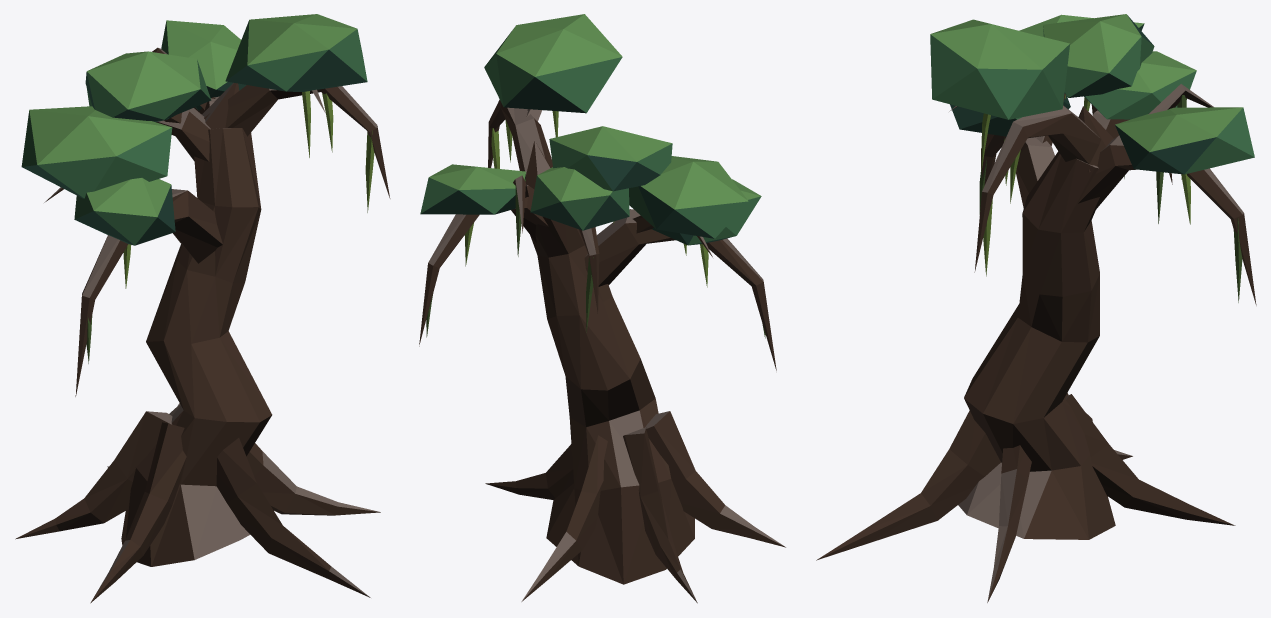
The model's file is SM_Tree_Gnarled_A.fbx.
3 views of the same model, side by side, from view 1: azimuth 30°, elevation 25°; view 2: azimuth 150°, elevation 25°; view 3: azimuth 270°, elevation 25° (orthographic). The views are drawn at different scales.
Visible parts, largest first — view 1: SM_Tree_Gnarled_A; view 2: SM_Tree_Gnarled_A; view 3: SM_Tree_Gnarled_A.
Part boxes in pixels (x1=…): SM_Tree_Gnarled_A: x1=15, y1=14, x2=390, y2=603; SM_Tree_Gnarled_A: x1=419, y1=14, x2=785, y2=603; SM_Tree_Gnarled_A: x1=816, y1=14, x2=1256, y2=602.
Bounding box in the file's own units: 5.58 × 8.87 × 6.41.
